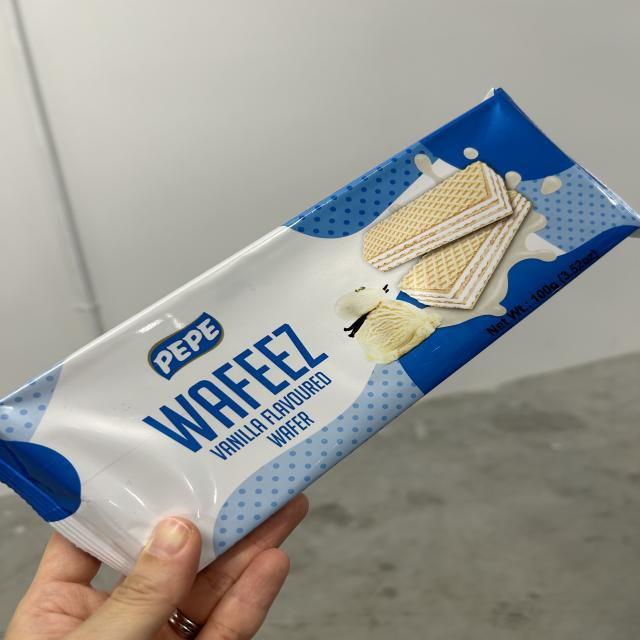object_name: (123, 162, 516, 466)
